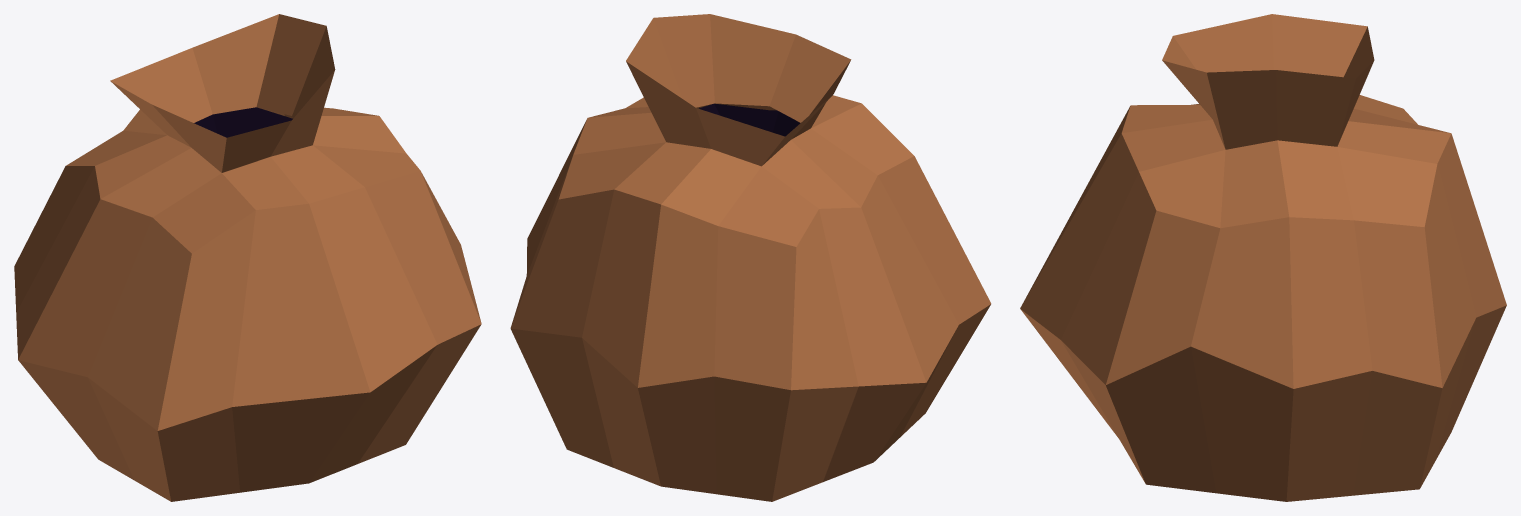
Rendered from Bag.fbx.
3 views of the same model, side by side, from view 1: azimuth 30°, elevation 25°; view 2: azimuth 150°, elevation 25°; view 3: azimuth 270°, elevation 25° (orthographic). The views are drawn at different scales.
Visible parts, largest first — view 1: Cube.001; view 2: Cube.001; view 3: Cube.001.
Boxes of the visible parts, bbox=[...] form: Cube.001: bbox=[14, 14, 481, 501]; Cube.001: bbox=[510, 14, 991, 501]; Cube.001: bbox=[1020, 14, 1506, 501].
Bounding box in the file's own units: 304 × 279 × 295.
